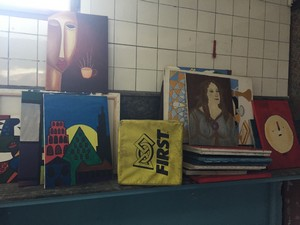cube: (117, 117, 186, 187)
